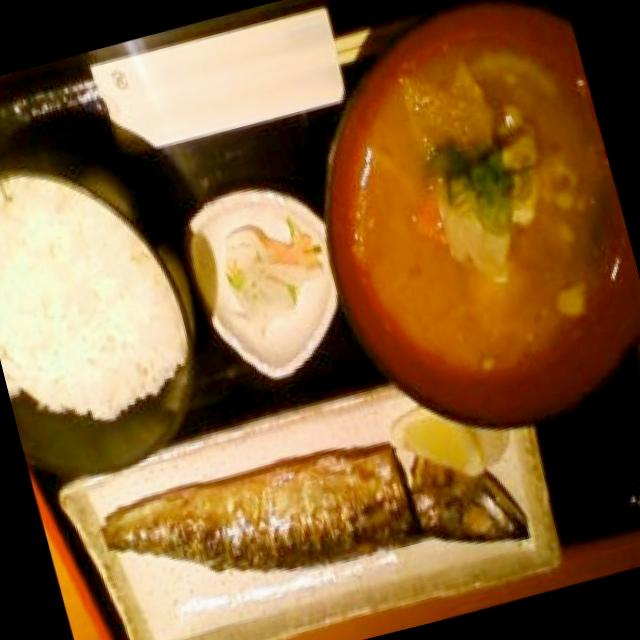Rice: (0, 148, 200, 434)
